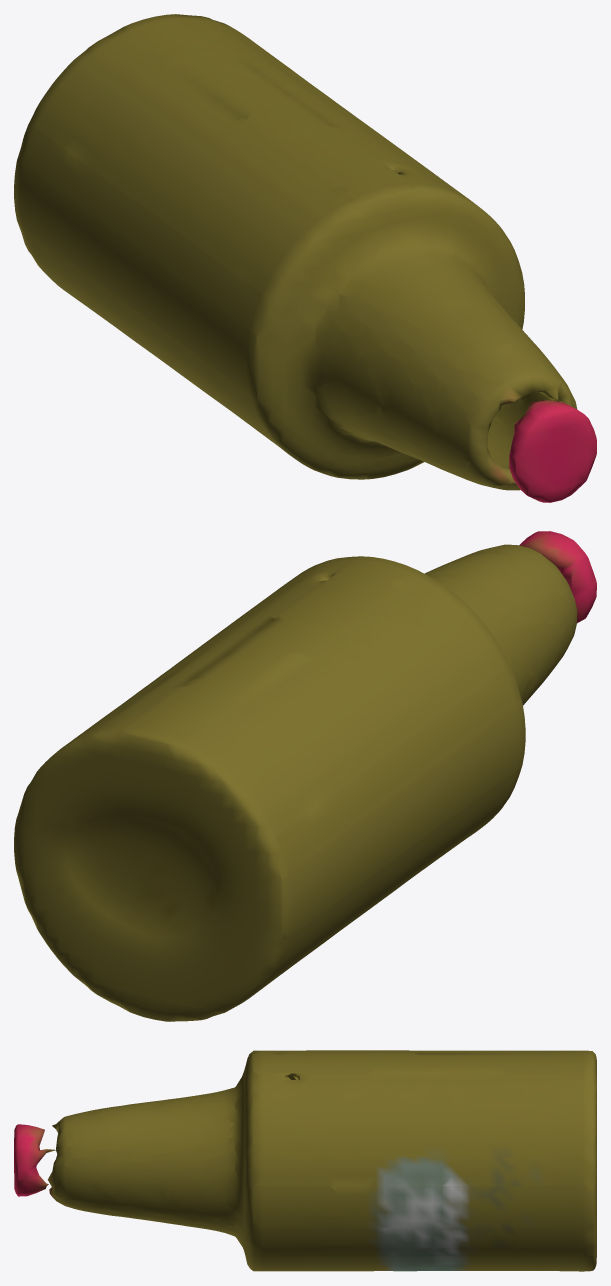
File: a bottle to pour objects.obj
The picture shows the model from 3 angles, top to bottom: view 1: azimuth 30°, elevation 25°; view 2: azimuth 150°, elevation 25°; view 3: azimuth 270°, elevation 25°; orthographic projection. The views are drawn at different scales.
Bounding box in the file's own units: 0.3828 × 0.3802 × 1.
